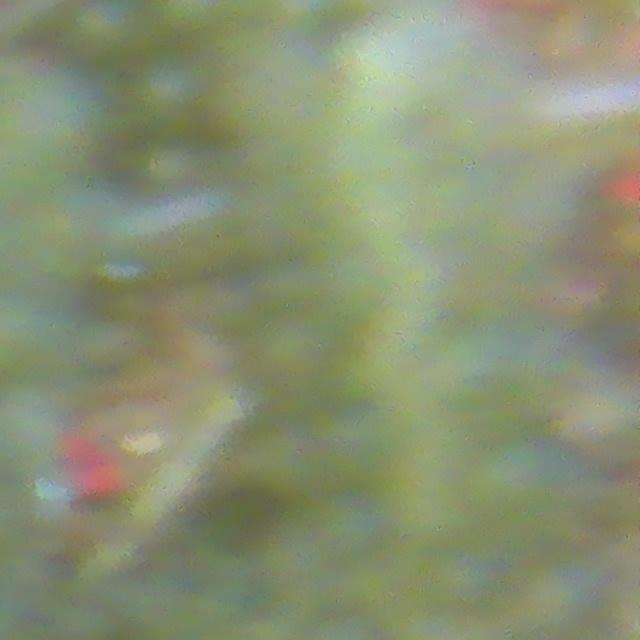SeaGrape: (133, 46, 212, 125), (69, 0, 147, 62)
